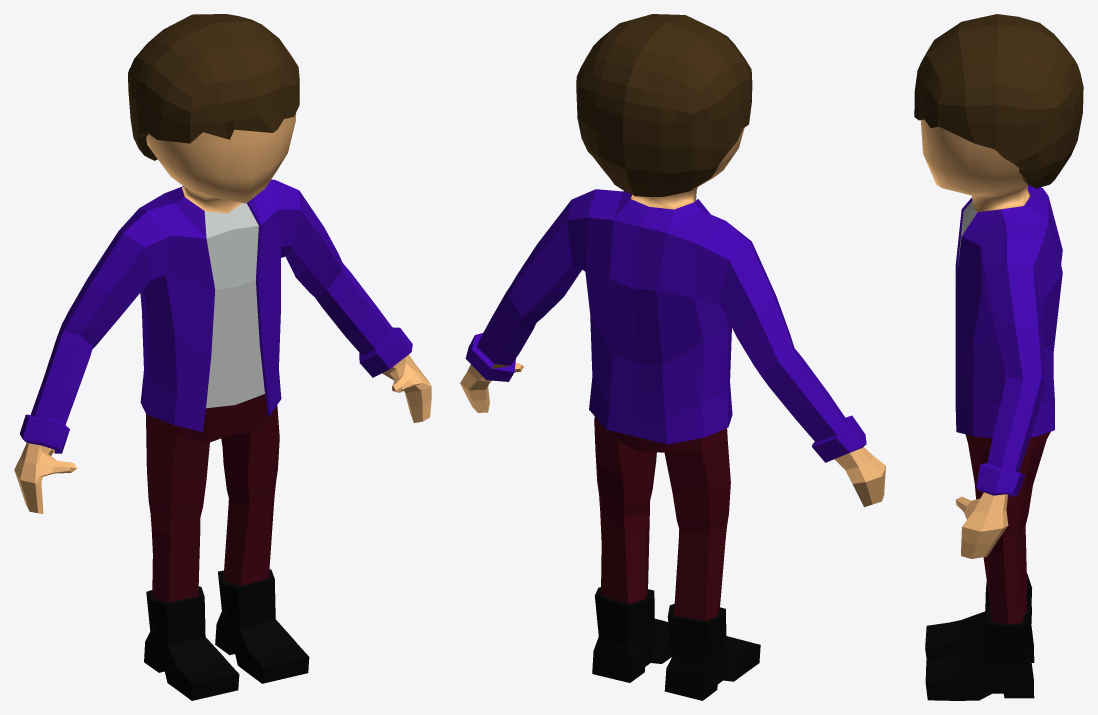
Rendered from Boy3.fbx.
The picture shows the model from 3 angles, left to right: view 1: azimuth 30°, elevation 25°; view 2: azimuth 150°, elevation 25°; view 3: azimuth 270°, elevation 25°; orthographic projection. The views are drawn at different scales.
Visible parts, largest first — view 1: Character.001_Character.002; view 2: Character.001_Character.002; view 3: Character.001_Character.002.
Boxes of the visible parts, x1=… form: Character.001_Character.002: x1=14, y1=14, x2=431, y2=700; Character.001_Character.002: x1=460, y1=14, x2=885, y2=700; Character.001_Character.002: x1=914, y1=14, x2=1083, y2=700.
Bounding box in the file's own units: 272 × 407 × 96.29.
